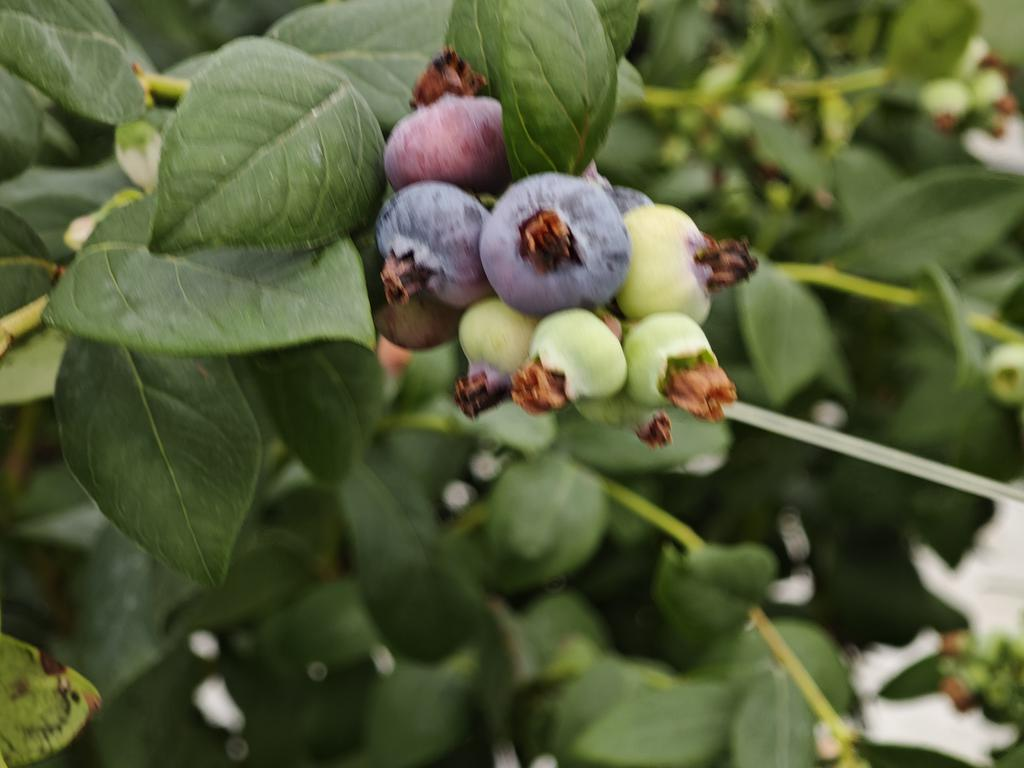RipeBlueBerry: (476, 168, 632, 314), (370, 177, 492, 311)
Semi-RipeBlueBerry: (380, 82, 505, 186)
UnripeBlueBerry: (618, 198, 718, 326), (516, 310, 630, 410)
